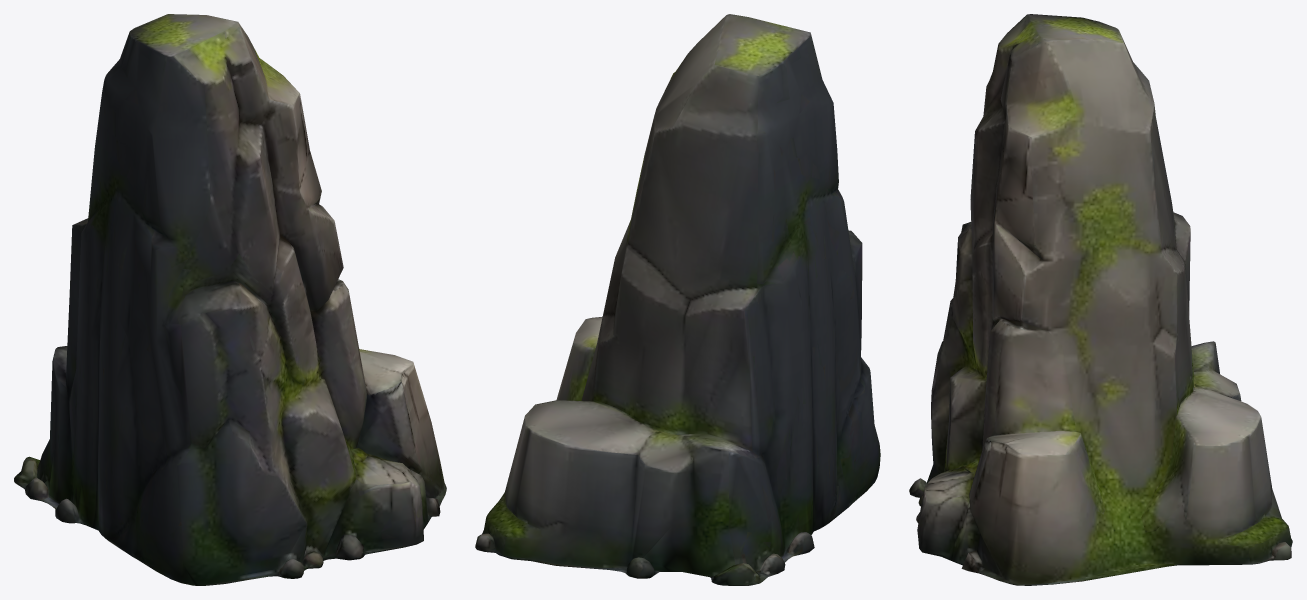
Rendered from Rock02.glb.
The picture shows the model from 3 angles, left to right: view 1: azimuth 30°, elevation 25°; view 2: azimuth 150°, elevation 25°; view 3: azimuth 270°, elevation 25°; orthographic projection. The views are drawn at different scales.
Parts seen in each view (by area): view 1: node_0; view 2: node_0; view 3: node_0.
Part boxes in pixels (x1,y1,x2,y2): node_0: [14, 14, 446, 585]; node_0: [475, 14, 880, 585]; node_0: [909, 14, 1292, 585].
Size of the model in its own units: 0.6224 by 0.9059 by 0.6872.
1 material, 1 textured.
